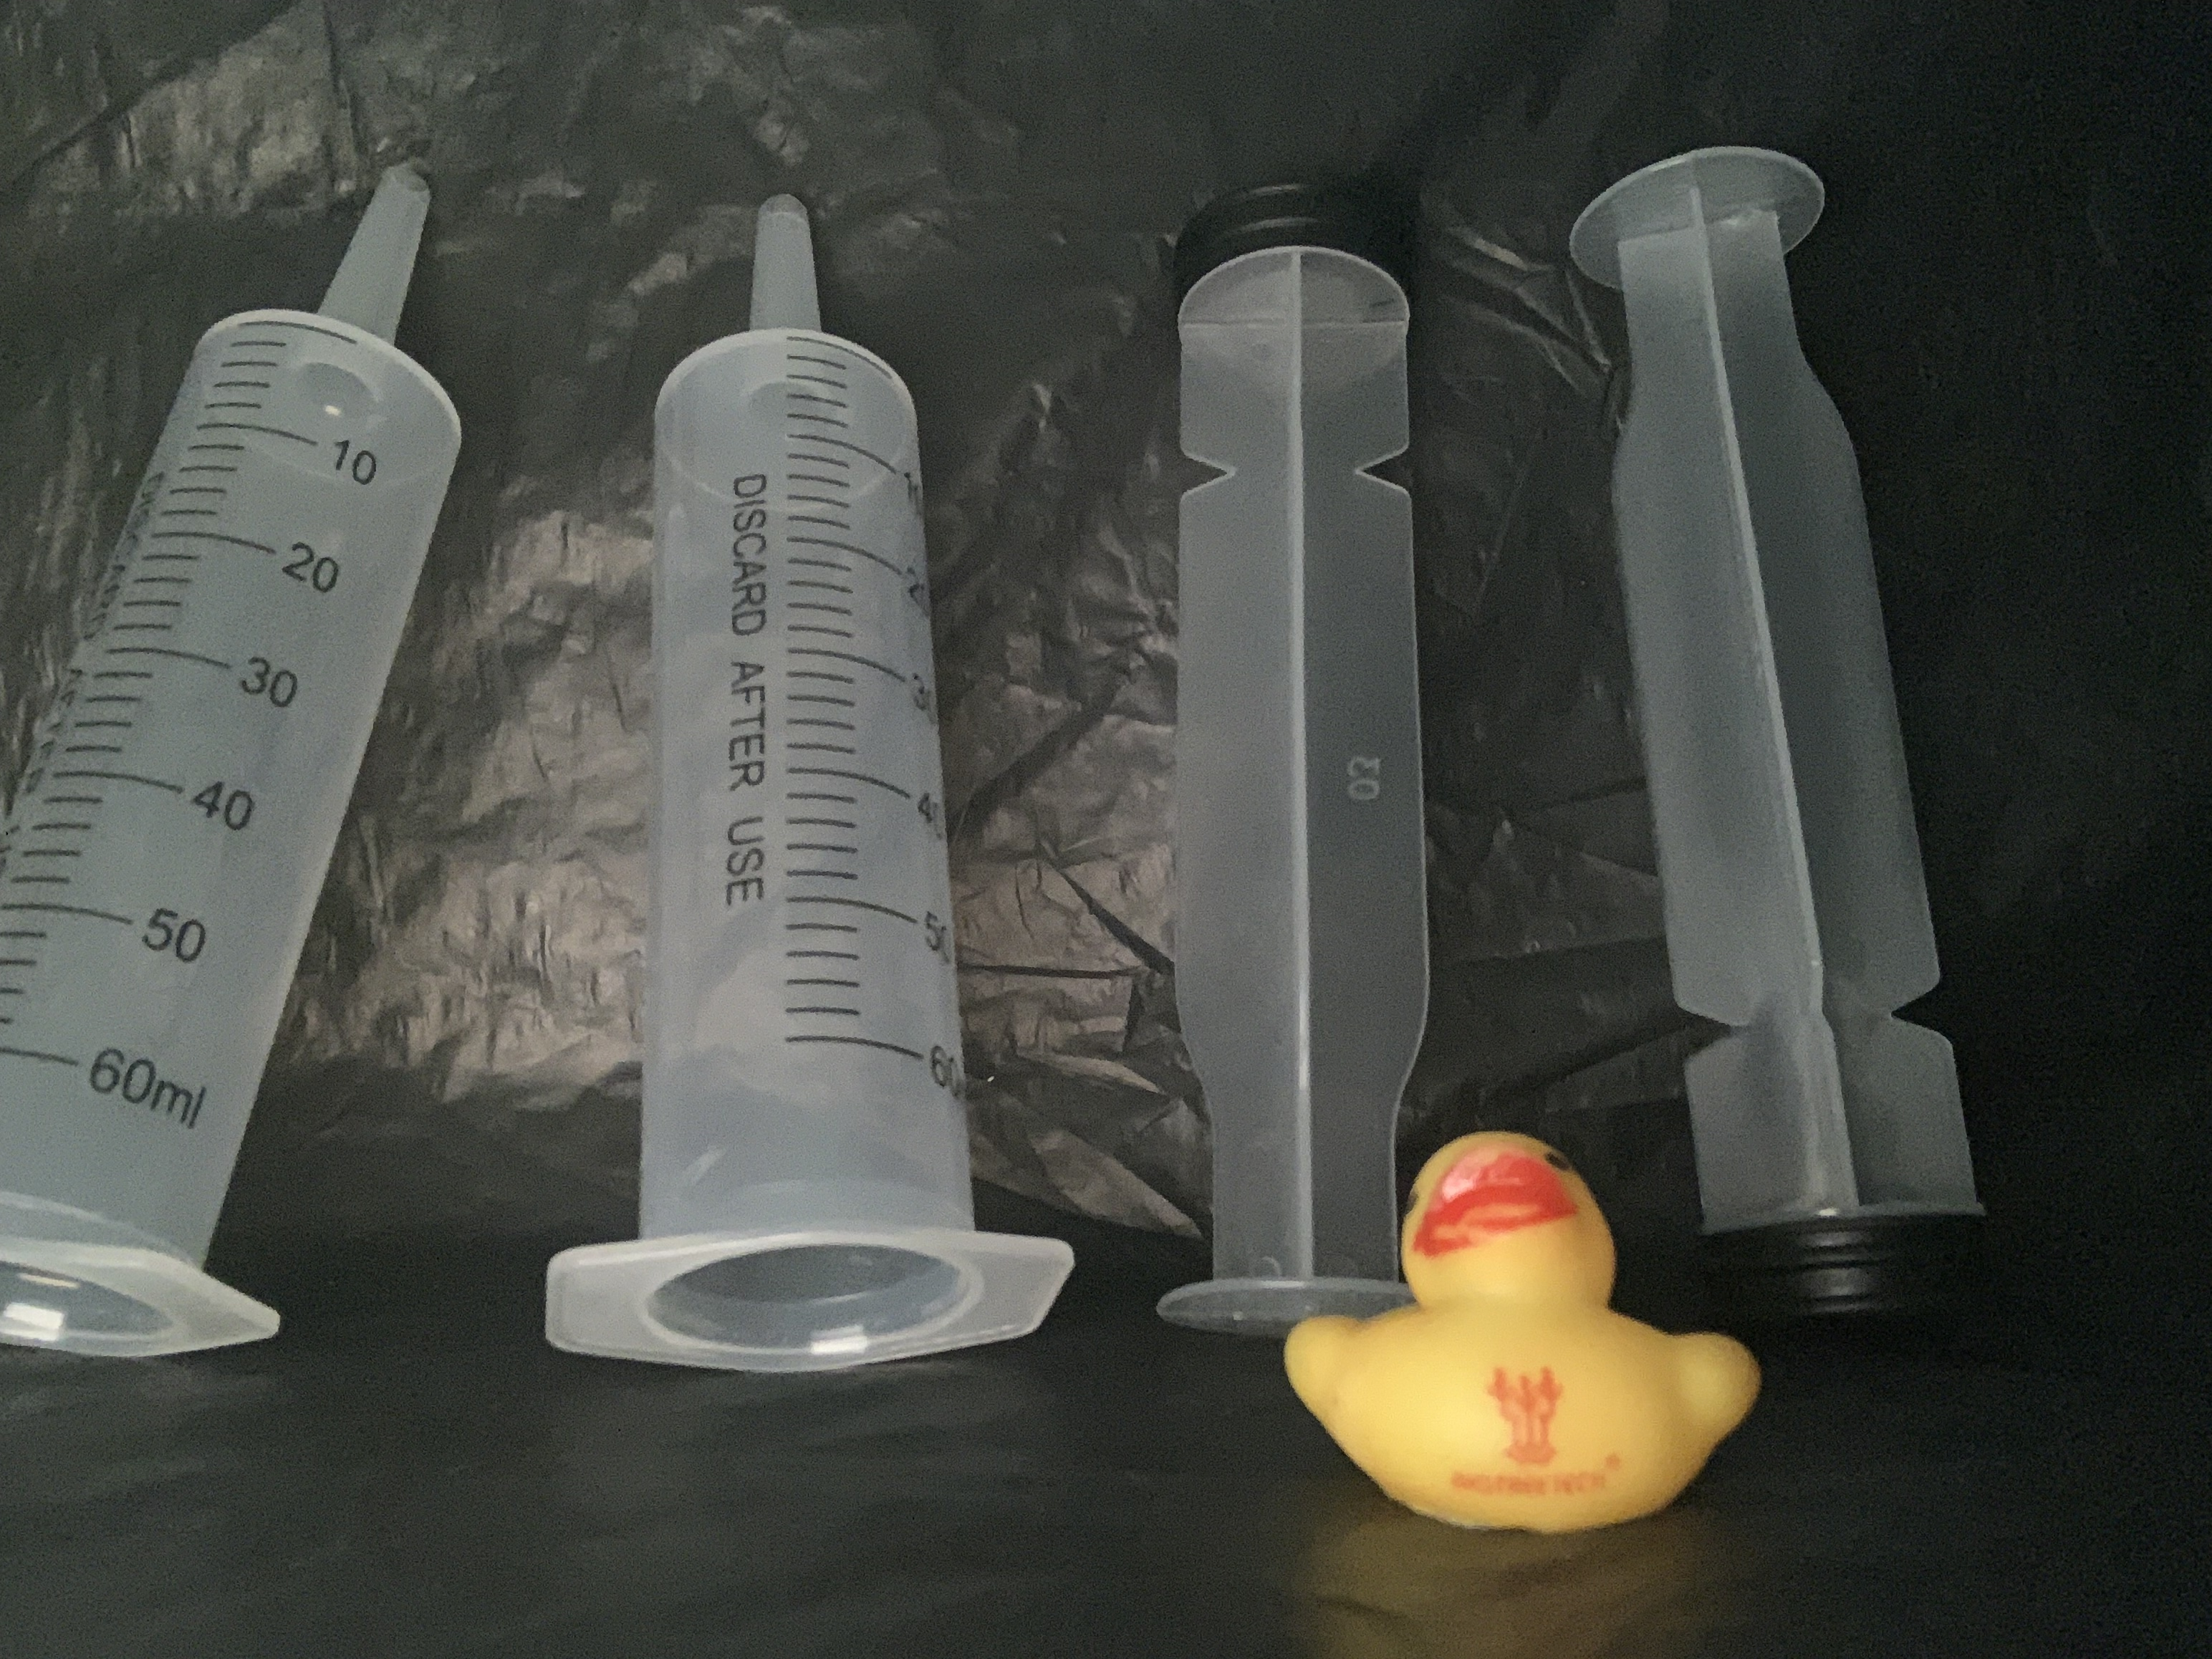plunger: (1566, 134, 2040, 1349), (1158, 157, 1426, 1345)
syringe: (540, 181, 1082, 1387), (2, 146, 469, 1366)
